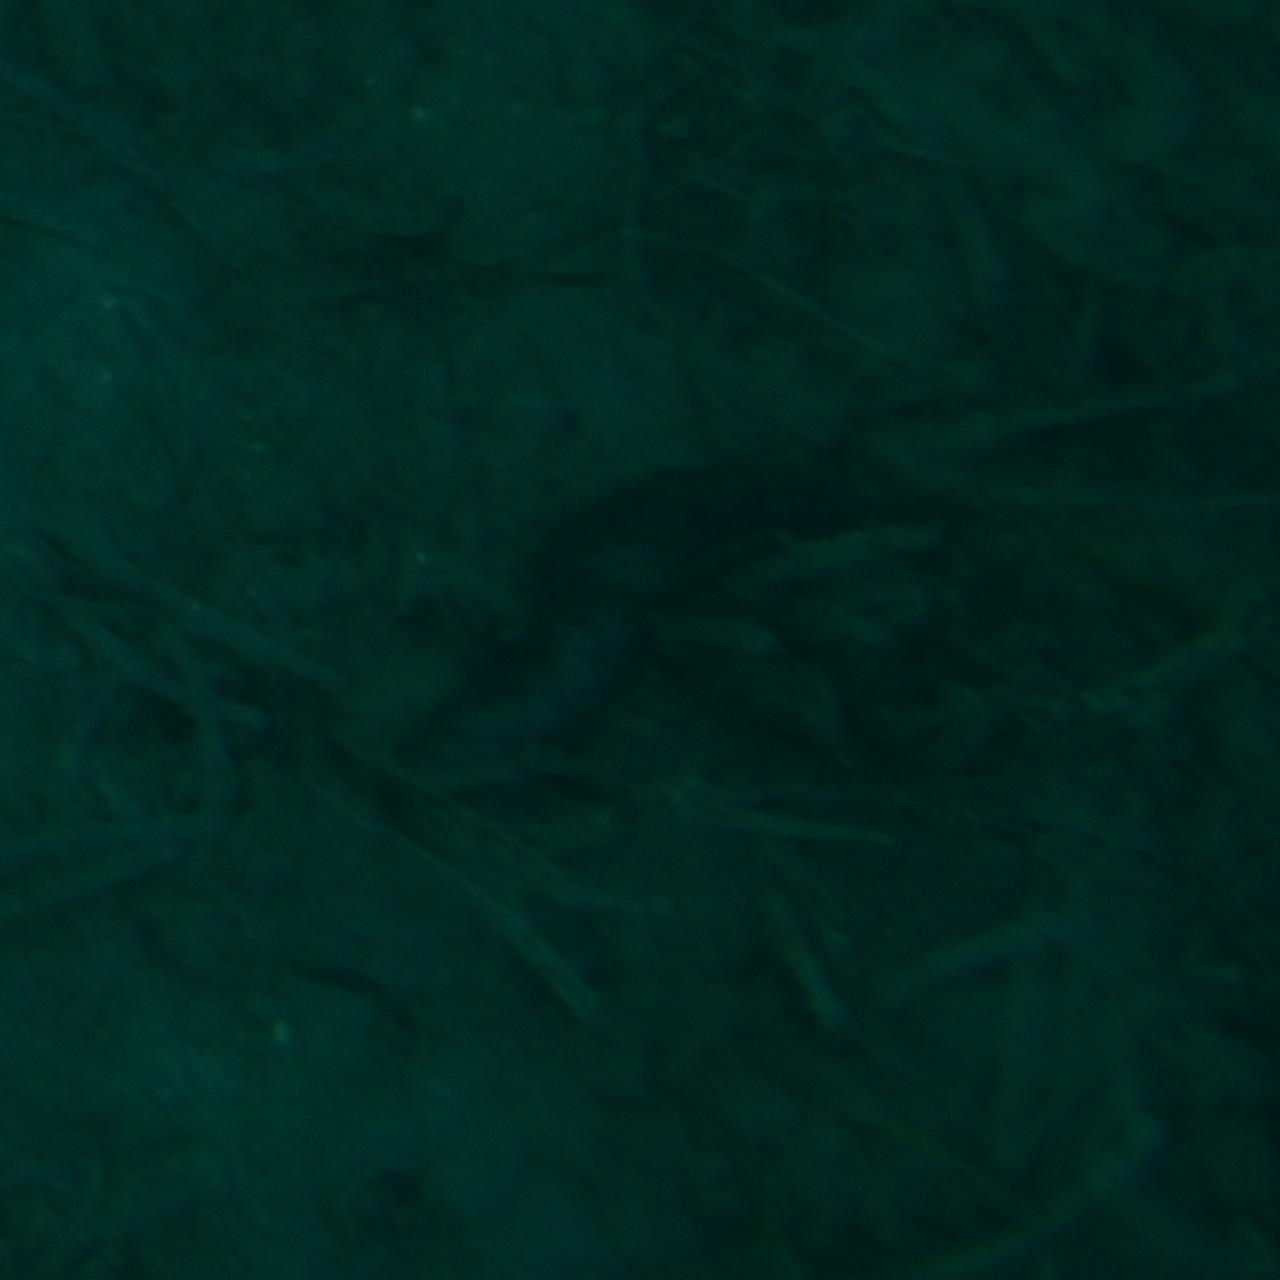Holothuria tubulosa: (397, 436, 883, 844)
